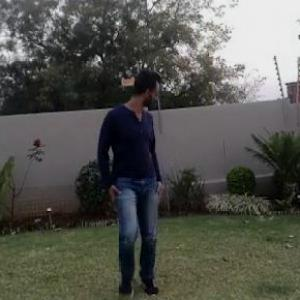follow: (92, 53, 176, 286)
